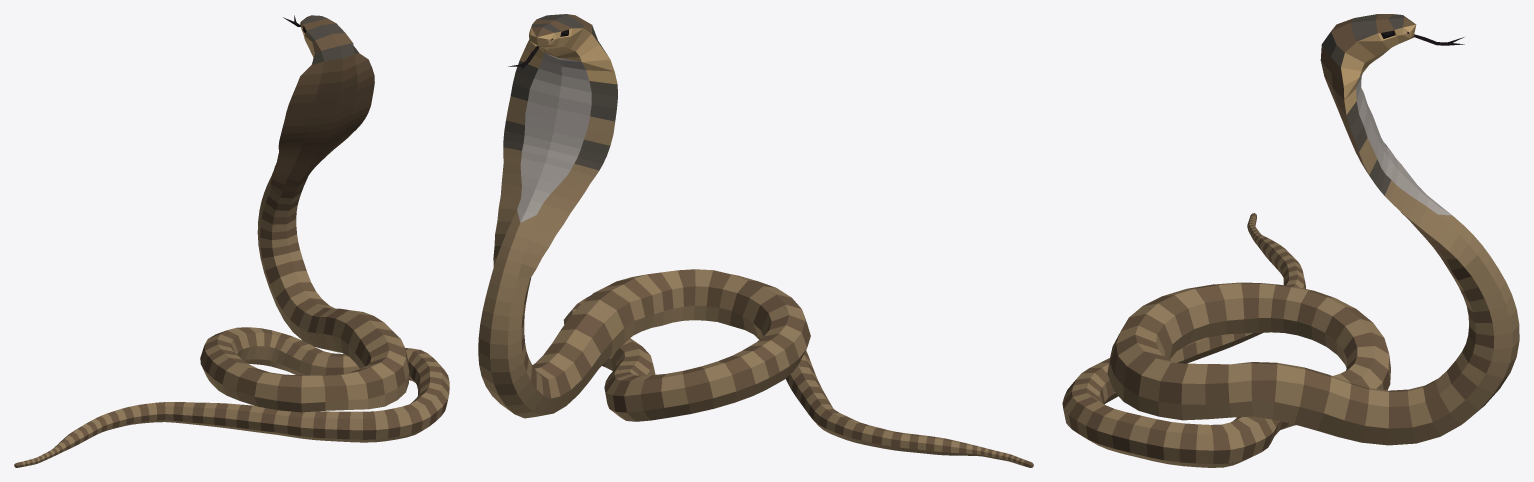
Rendered from Cobra guaritore.fbx.
3 views of the same model, side by side, from view 1: azimuth 30°, elevation 25°; view 2: azimuth 150°, elevation 25°; view 3: azimuth 270°, elevation 25° (orthographic). The views are drawn at different scales.
Parts seen in each view (by area): view 1: Cube.002; view 2: Cube.002; view 3: Cube.002.
Part boxes in pixels (x1,y1,x2,y2): Cube.002: (14, 15, 449, 467); Cube.002: (478, 14, 1033, 467); Cube.002: (1062, 14, 1519, 467).
Size of the model in its own units: 133 by 102 by 98.67.
